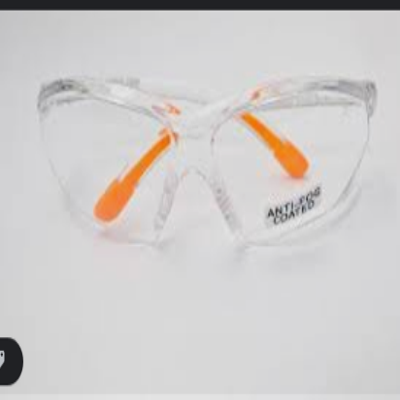glasses: (34, 65, 383, 249)
